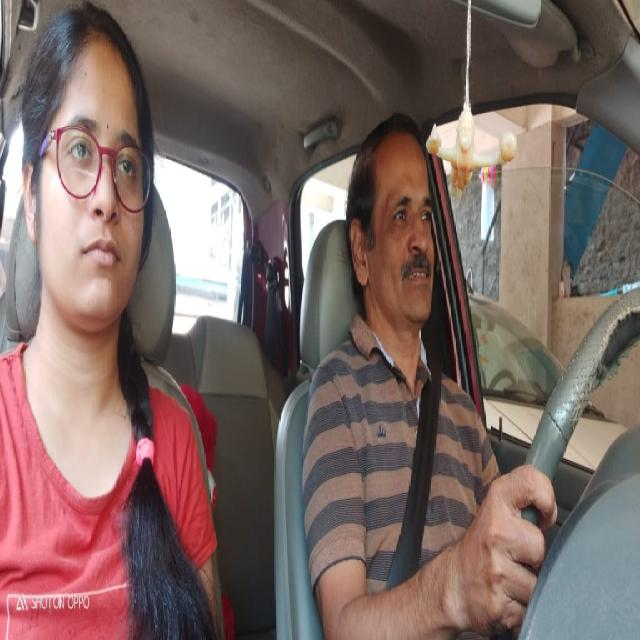person: (20, 5, 156, 346), (344, 108, 444, 356)
